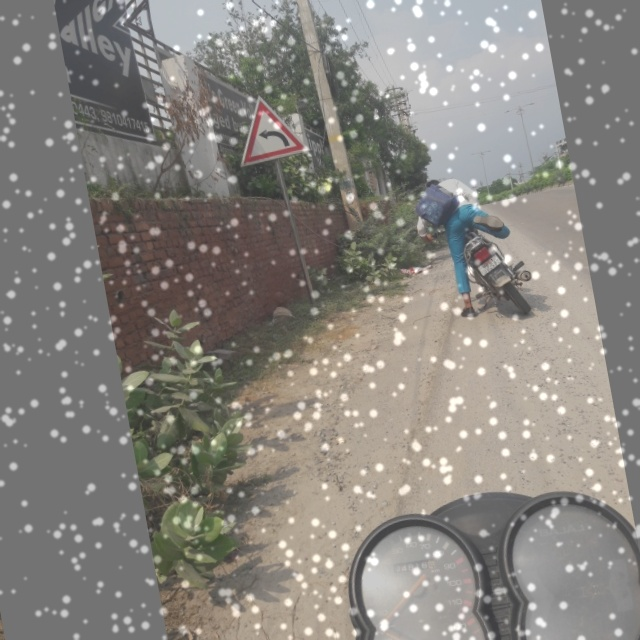Left_Hand_Curve: (226, 88, 312, 173)
